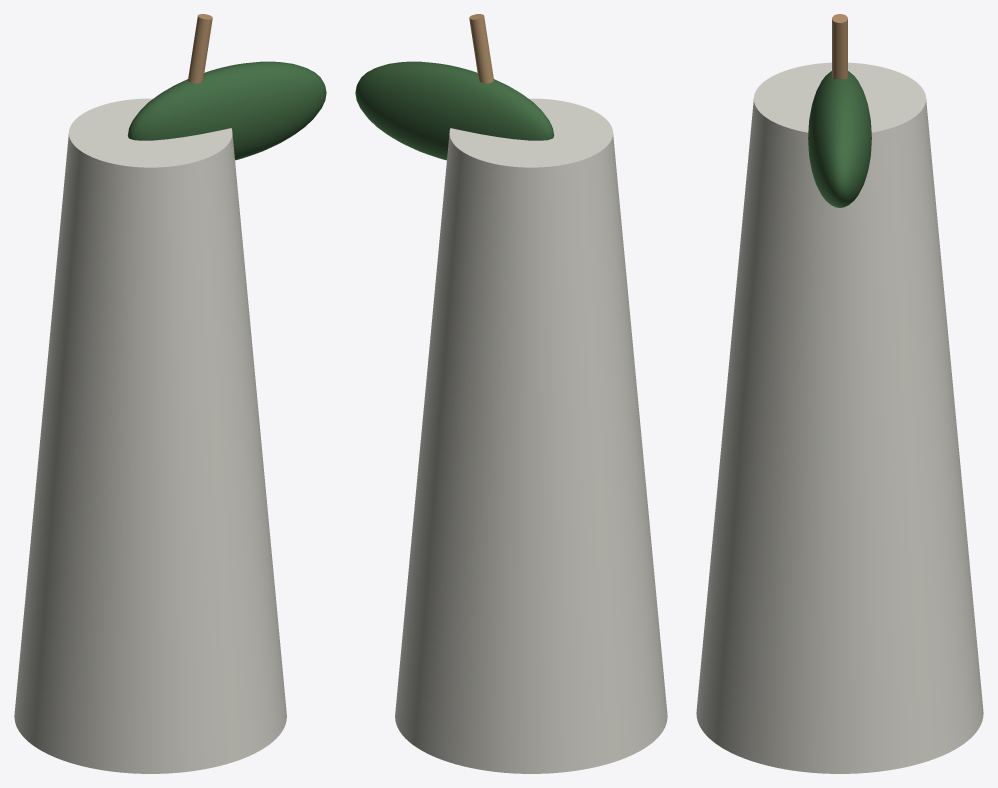
Rendered from accessory-3.glb.
The picture shows the model from 3 angles, left to right: view 1: azimuth 30°, elevation 25°; view 2: azimuth 150°, elevation 25°; view 3: azimuth 270°, elevation 25°; orthographic projection. The views are drawn at different scales.
Visible parts, largest first — view 1: accessory:3:archviz; view 2: accessory:3:archviz; view 3: accessory:3:archviz.
Part boxes in pixels (bbox=[...]): accessory:3:archviz: bbox=[14, 14, 326, 773]; accessory:3:archviz: bbox=[355, 14, 667, 773]; accessory:3:archviz: bbox=[696, 14, 983, 773].
Bounding box in the file's own units: 0.134 × 0.3005 × 0.108.
